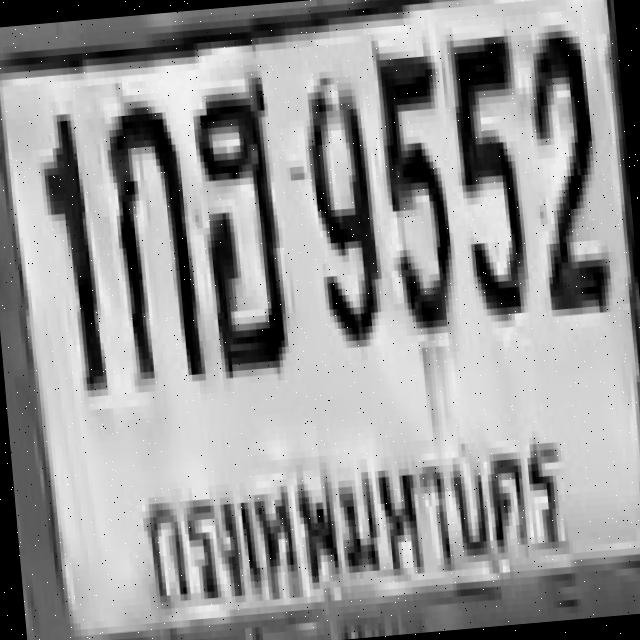1: (35, 106, 101, 392)
10GorGai: (100, 91, 204, 380)
2: (522, 26, 607, 306)
5: (446, 30, 528, 316), (372, 49, 454, 330)
53HorNokHook: (184, 73, 288, 370)
9: (298, 69, 383, 344)
Bangkok: (126, 405, 588, 618)
